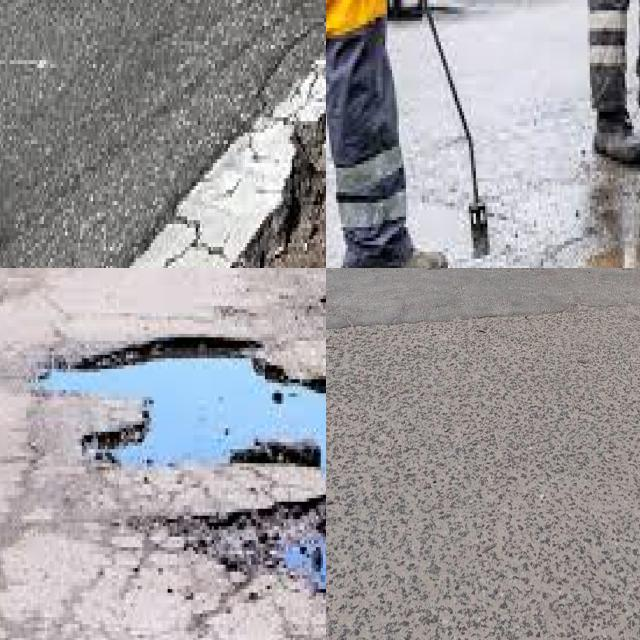Pothole: (42, 341, 326, 482), (228, 106, 326, 268)
